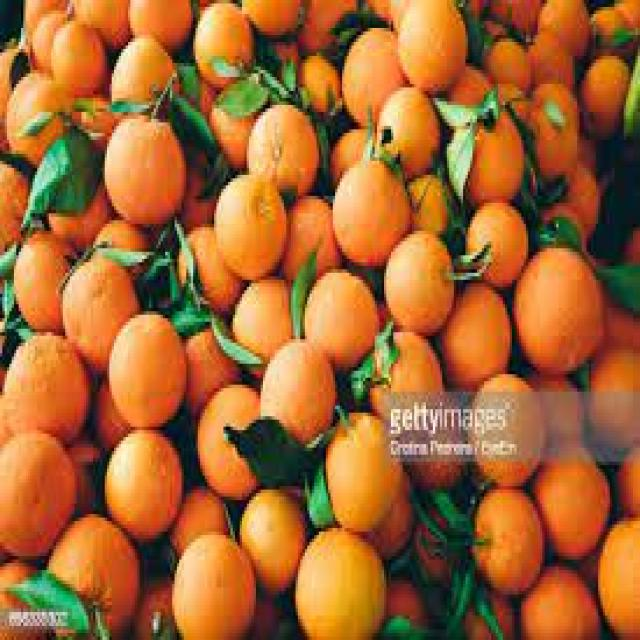orange: (213, 168, 294, 278)
